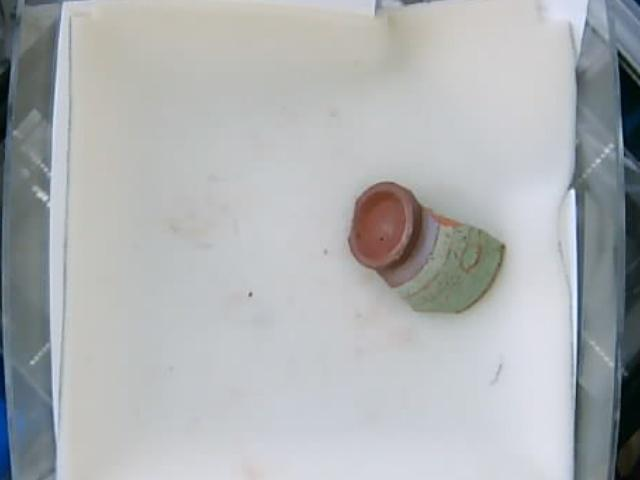China: (352, 182, 506, 311)
